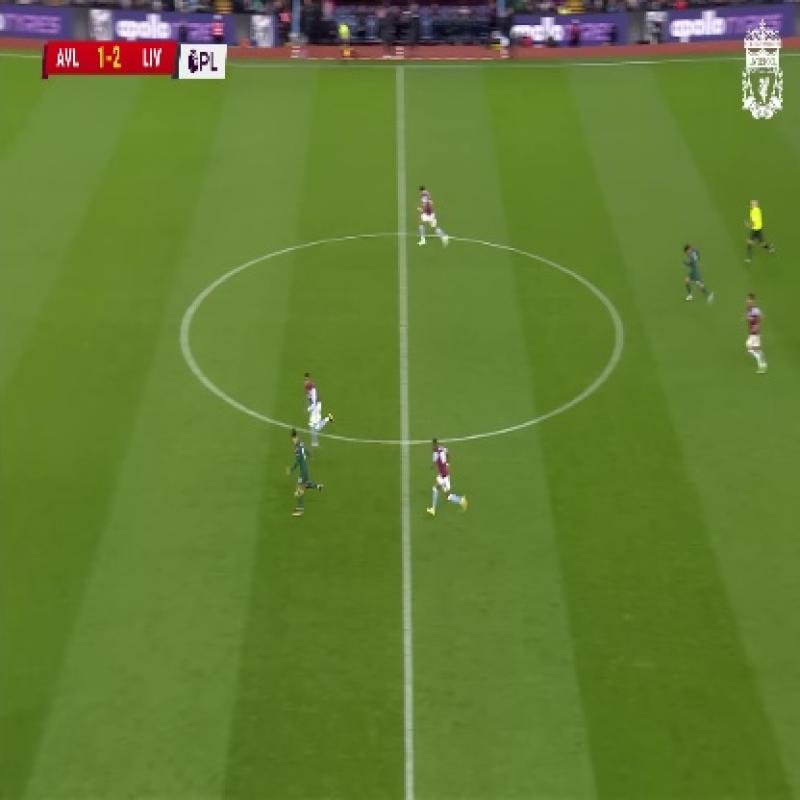13: (384, 46, 416, 89)
14: (386, 215, 418, 252)
15: (384, 414, 422, 470)
c: (158, 308, 209, 360), (600, 308, 647, 360)
